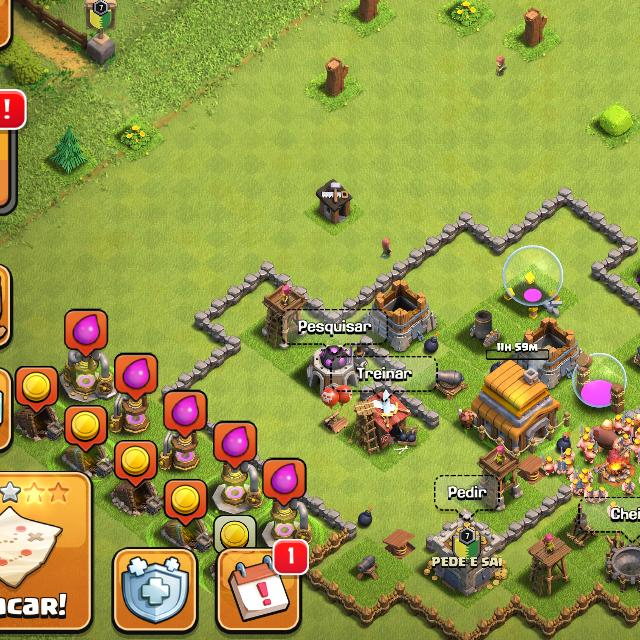FullCoin: (113, 439, 159, 489), (163, 478, 209, 528), (15, 364, 60, 414), (63, 406, 109, 454)
FullElixir: (113, 352, 159, 405), (212, 420, 259, 471), (261, 458, 308, 508), (63, 308, 109, 359), (163, 390, 208, 441)
coin: (212, 514, 256, 552)
